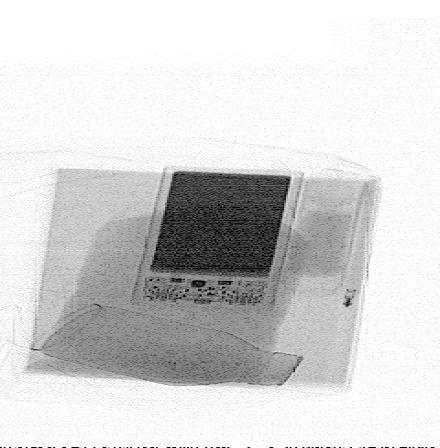Powerbank: (129, 166, 307, 309)
